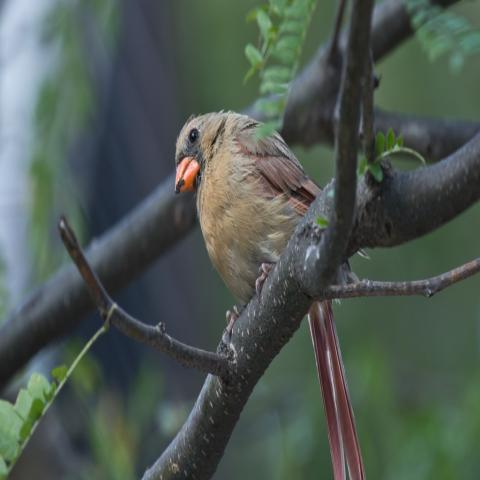bird: (172, 105, 367, 476)
